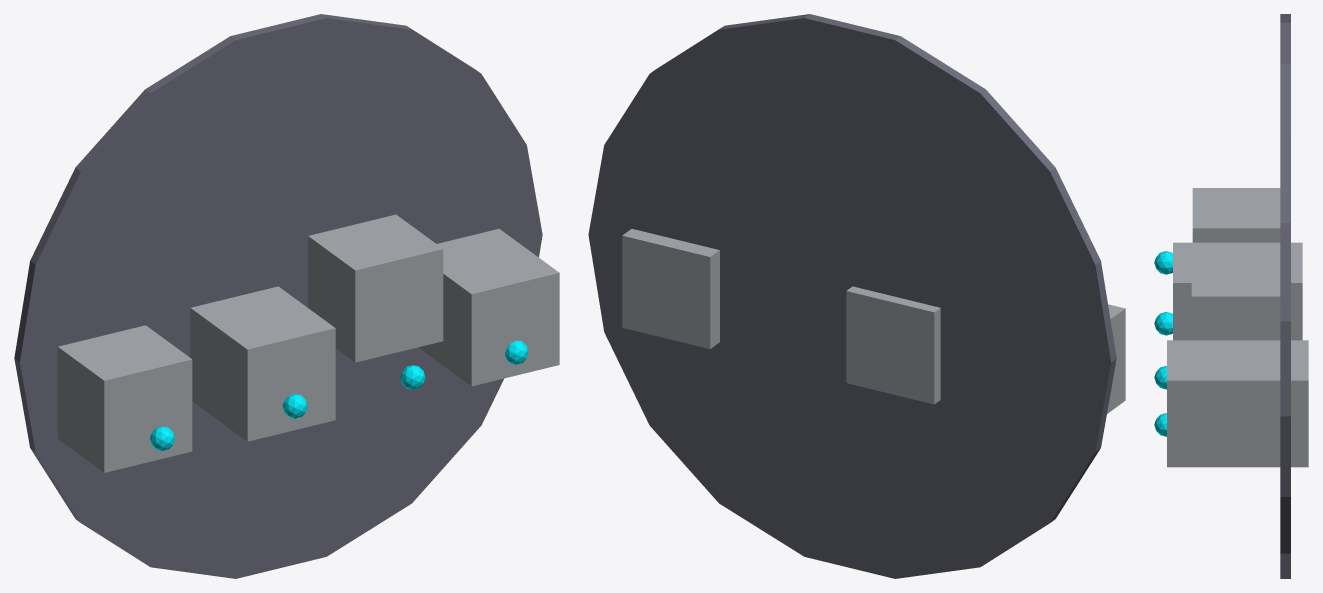
File: 02_local_prop_cluster.glb
3 renders of one model, left to right at view 1: azimuth 30°, elevation 25°; view 2: azimuth 150°, elevation 25°; view 3: azimuth 270°, elevation 25°, orthographic. The views are drawn at different scales.
Parts seen in each view (by area): view 1: scatter_base, tech_crate_1, tech_crate_0, tech_crate_2, tech_crate_3; view 2: scatter_base, tech_crate_3, tech_crate_1, tech_crate_0; view 3: tech_crate_3, tech_crate_2, scatter_base, tech_crate_0, tech_crate_1, status_light_0, status_light_1, status_light_3, status_light_2.
Boxes of the visible parts, x1,y1,x2,y2 form: scatter_base: (14,14,542,578); tech_crate_1: (190,286,335,441); tech_crate_0: (57,325,192,472); tech_crate_2: (308,214,443,362); tech_crate_3: (418,228,559,386); scatter_base: (588,14,1116,578); tech_crate_3: (622,229,719,348); tech_crate_1: (846,286,940,404); tech_crate_0: (1107,304,1125,413); tech_crate_3: (1167,340,1308,467); tech_crate_2: (1191,256,1280,340); scatter_base: (1280,14,1290,578); tech_crate_0: (1192,188,1280,242); tech_crate_1: (1173,242,1302,340); status_light_0: (1154,251,1172,274); status_light_1: (1154,312,1172,335); status_light_3: (1154,413,1166,436); status_light_2: (1154,366,1166,389).
Bounding box in the file's own units: 1.9 × 1.87 × 0.5174.
